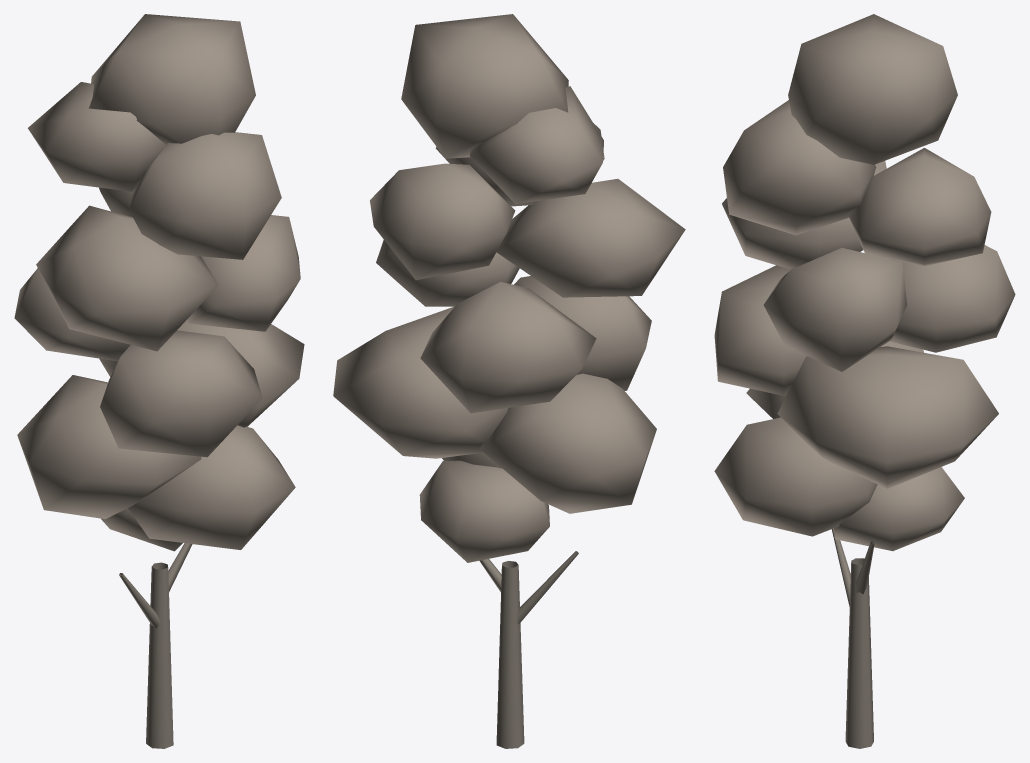
The model's file is tree_poplar.glb.
The picture shows the model from 3 angles, left to right: view 1: azimuth 30°, elevation 25°; view 2: azimuth 150°, elevation 25°; view 3: azimuth 270°, elevation 25°; orthographic projection. The views are drawn at different scales.
Parts seen in each view (by area): view 1: tree_poplar; view 2: tree_poplar; view 3: tree_poplar.
Part boxes in pixels (x1,y1,x2,y2): tree_poplar: (14, 14, 304, 748); tree_poplar: (333, 14, 685, 748); tree_poplar: (714, 14, 1015, 748).
Size of the model in its own units: 5.14 by 11.98 by 4.52.
